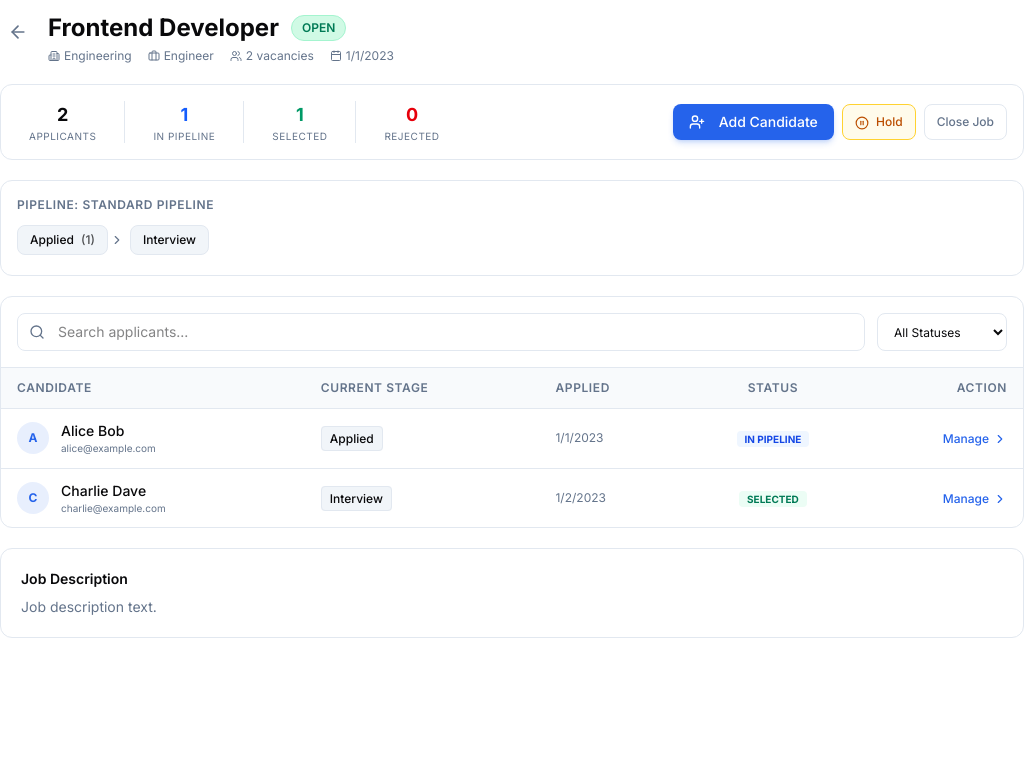
Test: Job Detail Page › should filter applicants by search text
This screenshot has width=1024, height=780.
Expected: the text "Alice Bob" is shown, [61,422,124,439]
Expected: the text "Charlie Dave" is shown, [61,482,146,499]
In the field with placeholder "Search applicants...": (441, 332) [17,313,865,351], type "Alice"
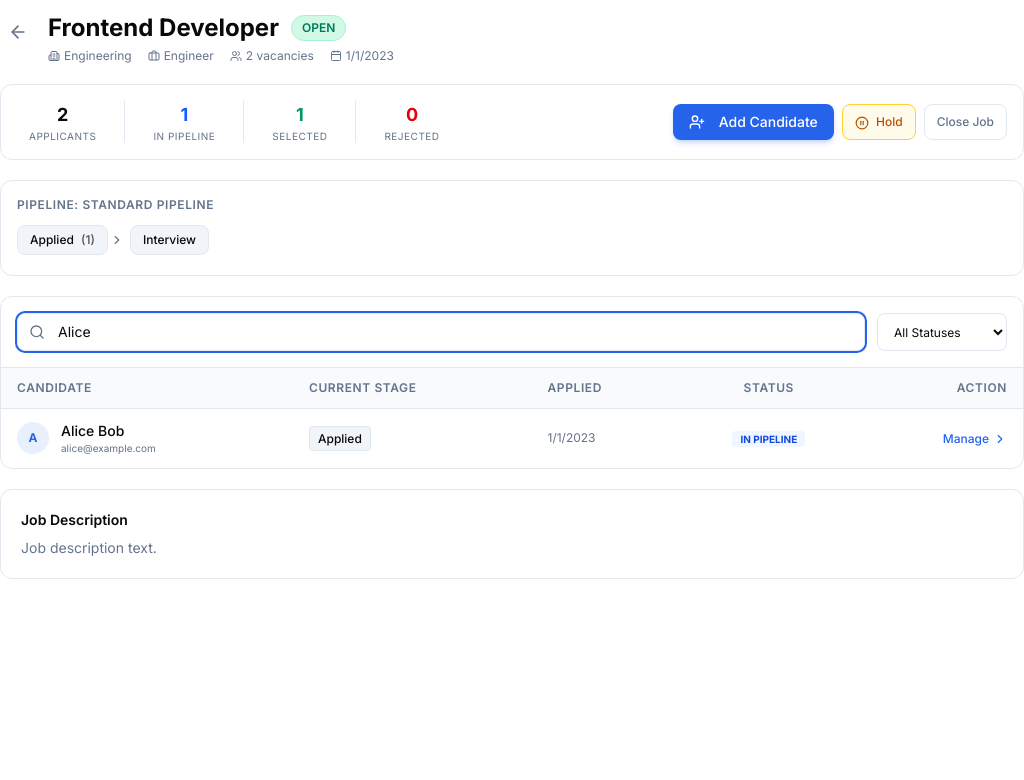
Expected: the text "Alice Bob" is shown, [61,422,124,439]
Expected: the text "Charlie Dave" is gone
